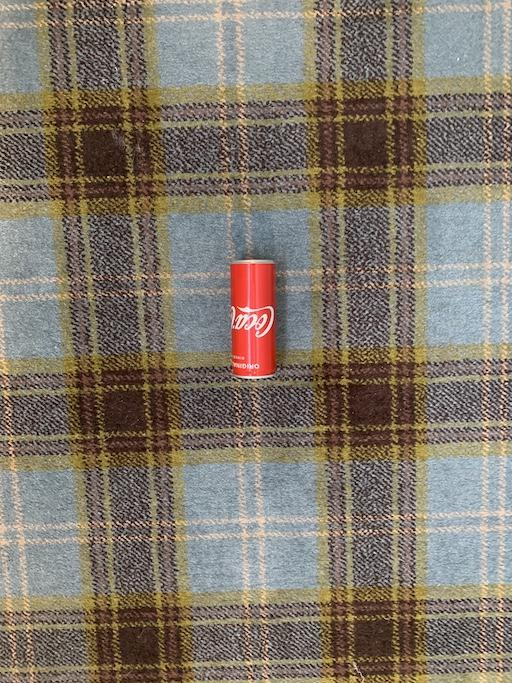Aluminum can: (208, 250, 295, 397)
